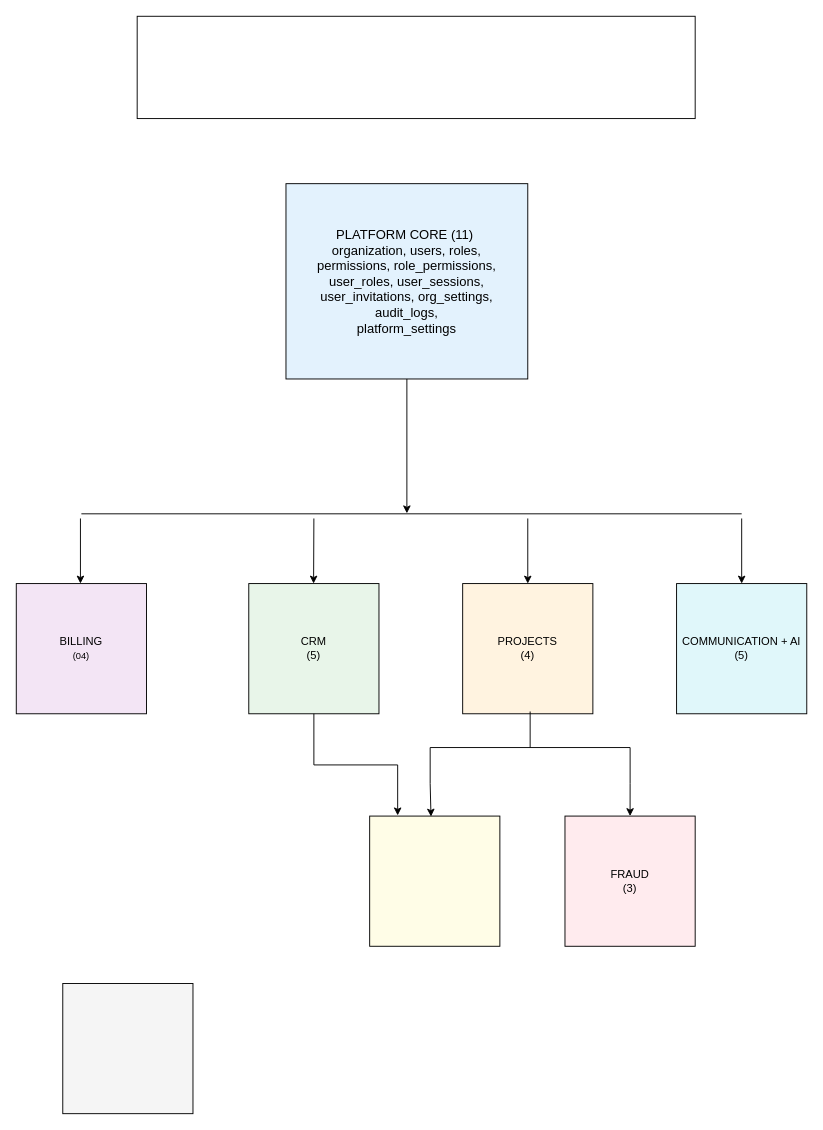
This 823x1130 diagram has some shape labels left out. The shapes that lost their labels are listed below. From the top down, each one's centre as x and y in pixels, then its label:
point (415, 67): DOCUVERIFY AI - DOMAIN MAP
point (434, 880): DOCUMENTS (4)
point (127, 1048): INTEGRATION (3)
